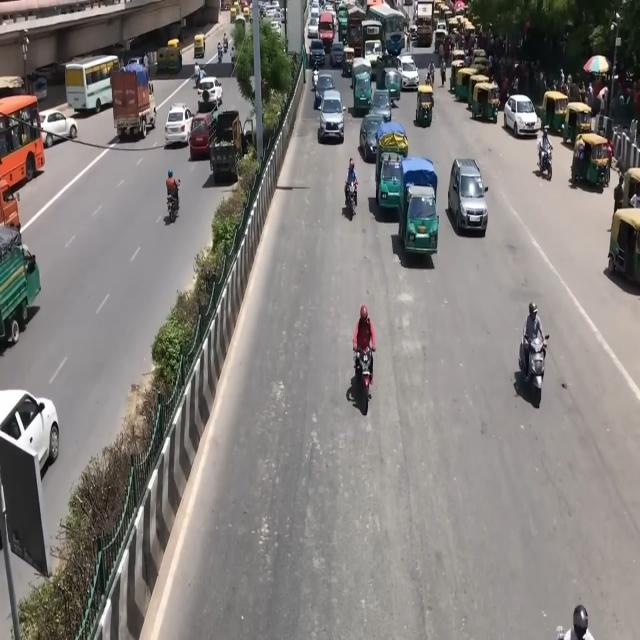auto: (571, 130, 610, 188), (563, 101, 593, 148), (472, 80, 500, 124), (542, 90, 568, 136), (156, 39, 182, 74), (415, 84, 434, 127), (342, 46, 355, 76), (193, 33, 206, 59)
bike-auto: (519, 304, 546, 414), (352, 341, 377, 406), (538, 126, 553, 178), (166, 169, 180, 213), (346, 158, 358, 207), (194, 63, 203, 87), (223, 33, 228, 52), (217, 42, 222, 61)
